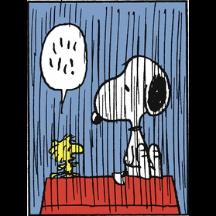snoopy: (90, 54, 175, 186)
